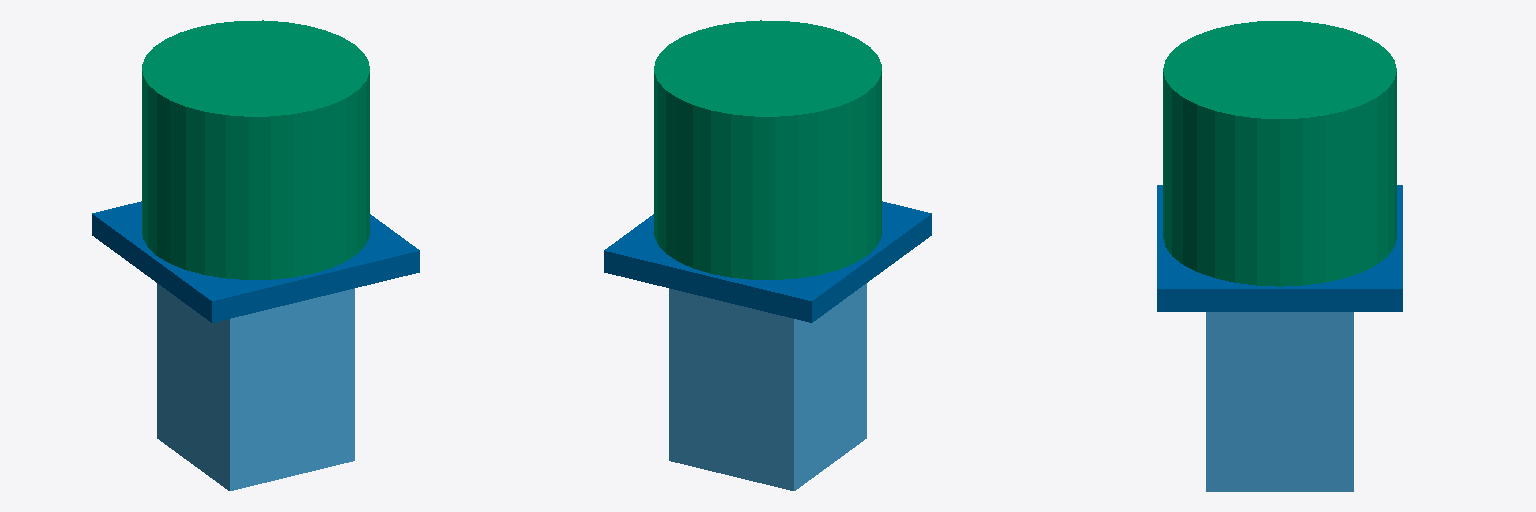
robot.urdf — candidate-1:
<?xml version="1.0"?>
<!-- 由 freecad-ai-parts 生成（ADR-0035）：长度单位 m，角度单位 rad；未写 inertial（无整件惯性数据） -->
<robot name="candidate-1">
  <link name="base"/>
  <!-- motor: test.servo_motor.test-vendor.m200（Test Vendor M200）；质量 0.8 kg -->
  <link name="motor">
    <visual><origin xyz="0.0 0.0 -0.005" rpy="0.0 0.0 0.0"/><geometry><box size="0.06 0.06 0.01"/></geometry></visual>
    <collision><origin xyz="0.0 0.0 -0.005" rpy="0.0 0.0 0.0"/><geometry><box size="0.06 0.06 0.01"/></geometry></collision>
    <visual><origin xyz="0.0 0.0 -0.05" rpy="0.0 0.0 0.0"/><geometry><box size="0.06 0.06 0.08"/></geometry></visual>
    <collision><origin xyz="0.0 0.0 -0.05" rpy="0.0 0.0 0.0"/><geometry><box size="0.06 0.06 0.08"/></geometry></collision>
    <visual><origin xyz="0.0 0.0 0.015" rpy="0.0 0.0 0.0"/><geometry><cylinder radius="0.0055" length="0.03"/></geometry></visual>
    <collision><origin xyz="0.0 0.0 0.015" rpy="0.0 0.0 0.0"/><geometry><cylinder radius="0.0055" length="0.03"/></geometry></collision>
  </link>
  <joint name="motor_mount" type="fixed"><parent link="base"/><child link="motor"/><origin xyz="0.0 0.0 0.0" rpy="0.0 0.0 0.0"/></joint>
  <!-- reducer: test.reducer.test-vendor.r25-100（Test Vendor R25-100）；质量 1.5 kg -->
  <link name="reducer">
    <visual><origin xyz="0.0 0.0 0.0175" rpy="0.0 0.0 0.0"/><geometry><cylinder radius="0.0475" length="0.075"/></geometry></visual>
    <collision><origin xyz="0.0 0.0 0.0175" rpy="0.0 0.0 0.0"/><geometry><cylinder radius="0.0475" length="0.075"/></geometry></collision>
  </link>
  <joint name="reducer_mount" type="fixed"><parent link="base"/><child link="reducer"/><origin xyz="0.0 0.0 0.03" rpy="0.0 0.0 0.0"/></joint>
  <!-- sleeve: test.adapter.test-vendor.sleeve-11-19（Test Vendor SL-11-19）；质量 0.03 kg -->
  <link name="sleeve">
    <visual><origin xyz="0.0 0.0 0.0125" rpy="0.0 0.0 0.0"/><geometry><cylinder radius="0.0095" length="0.025"/></geometry></visual>
    <collision><origin xyz="0.0 0.0 0.0125" rpy="0.0 0.0 0.0"/><geometry><cylinder radius="0.0095" length="0.025"/></geometry></collision>
  </link>
  <joint name="sleeve_mount" type="fixed"><parent link="base"/><child link="sleeve"/><origin xyz="0.0 0.0 0.03" rpy="0.0 0.0 0.0"/></joint>
  <!-- plate: test.adapter.test-vendor.plate-70-90（Test Vendor PL-70-90）；质量 0.2 kg -->
  <link name="plate">
    <visual><origin xyz="0.0 0.0 0.005" rpy="0.0 0.0 0.0"/><geometry><box size="0.1 0.1 0.01"/></geometry></visual>
    <collision><origin xyz="0.0 0.0 0.005" rpy="0.0 0.0 0.0"/><geometry><box size="0.1 0.1 0.01"/></geometry></collision>
  </link>
  <joint name="plate_mount" type="fixed"><parent link="base"/><child link="plate"/><origin xyz="0.0 0.0 0.0" rpy="0.0 0.0 0.0"/></joint>
  <link name="output"/>
  <joint name="output_joint" type="continuous"><parent link="reducer"/><child link="output"/><origin xyz="0.0 0.0 0.055" rpy="0.0 0.0 0.0"/><axis xyz="0 0 1"/></joint>
</robot>

--- Render facts (derived) ---
3 views of the same robot in one strip: view 1: azimuth 30°, elevation 25°; view 2: azimuth 150°, elevation 25°; view 3: azimuth 270°, elevation 25° (orthographic).
Model candidate-1 with 6 links and 5 joints (1 continuous, 4 fixed), rooted at base, posed every joint at zero.
Links seen in each view (by area): view 1: reducer, motor, plate; view 2: reducer, motor, plate; view 3: reducer, motor, plate.
Boxes of the visible links, x1,y1,x2,y2 form: reducer: (142,20,369,279); motor: (157,283,354,490); plate: (92,201,419,322); reducer: (654,20,881,279); motor: (669,283,866,490); plate: (604,201,931,322); reducer: (1163,21,1396,286); motor: (1206,312,1353,491); plate: (1157,185,1402,311).
Size in the robot's own frame: 0.1 by 0.1 by 0.175 metres.
Geometry: primitives only (box / cylinder / sphere), no mesh files.
